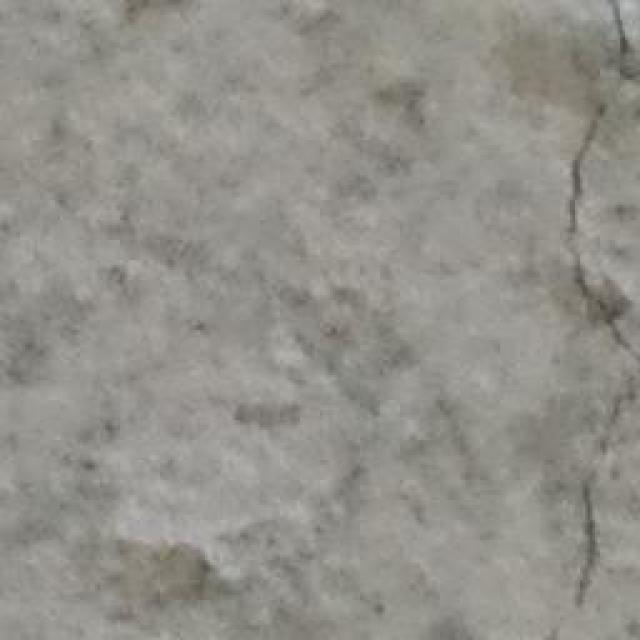Longitudinal: (559, 0, 640, 639)
